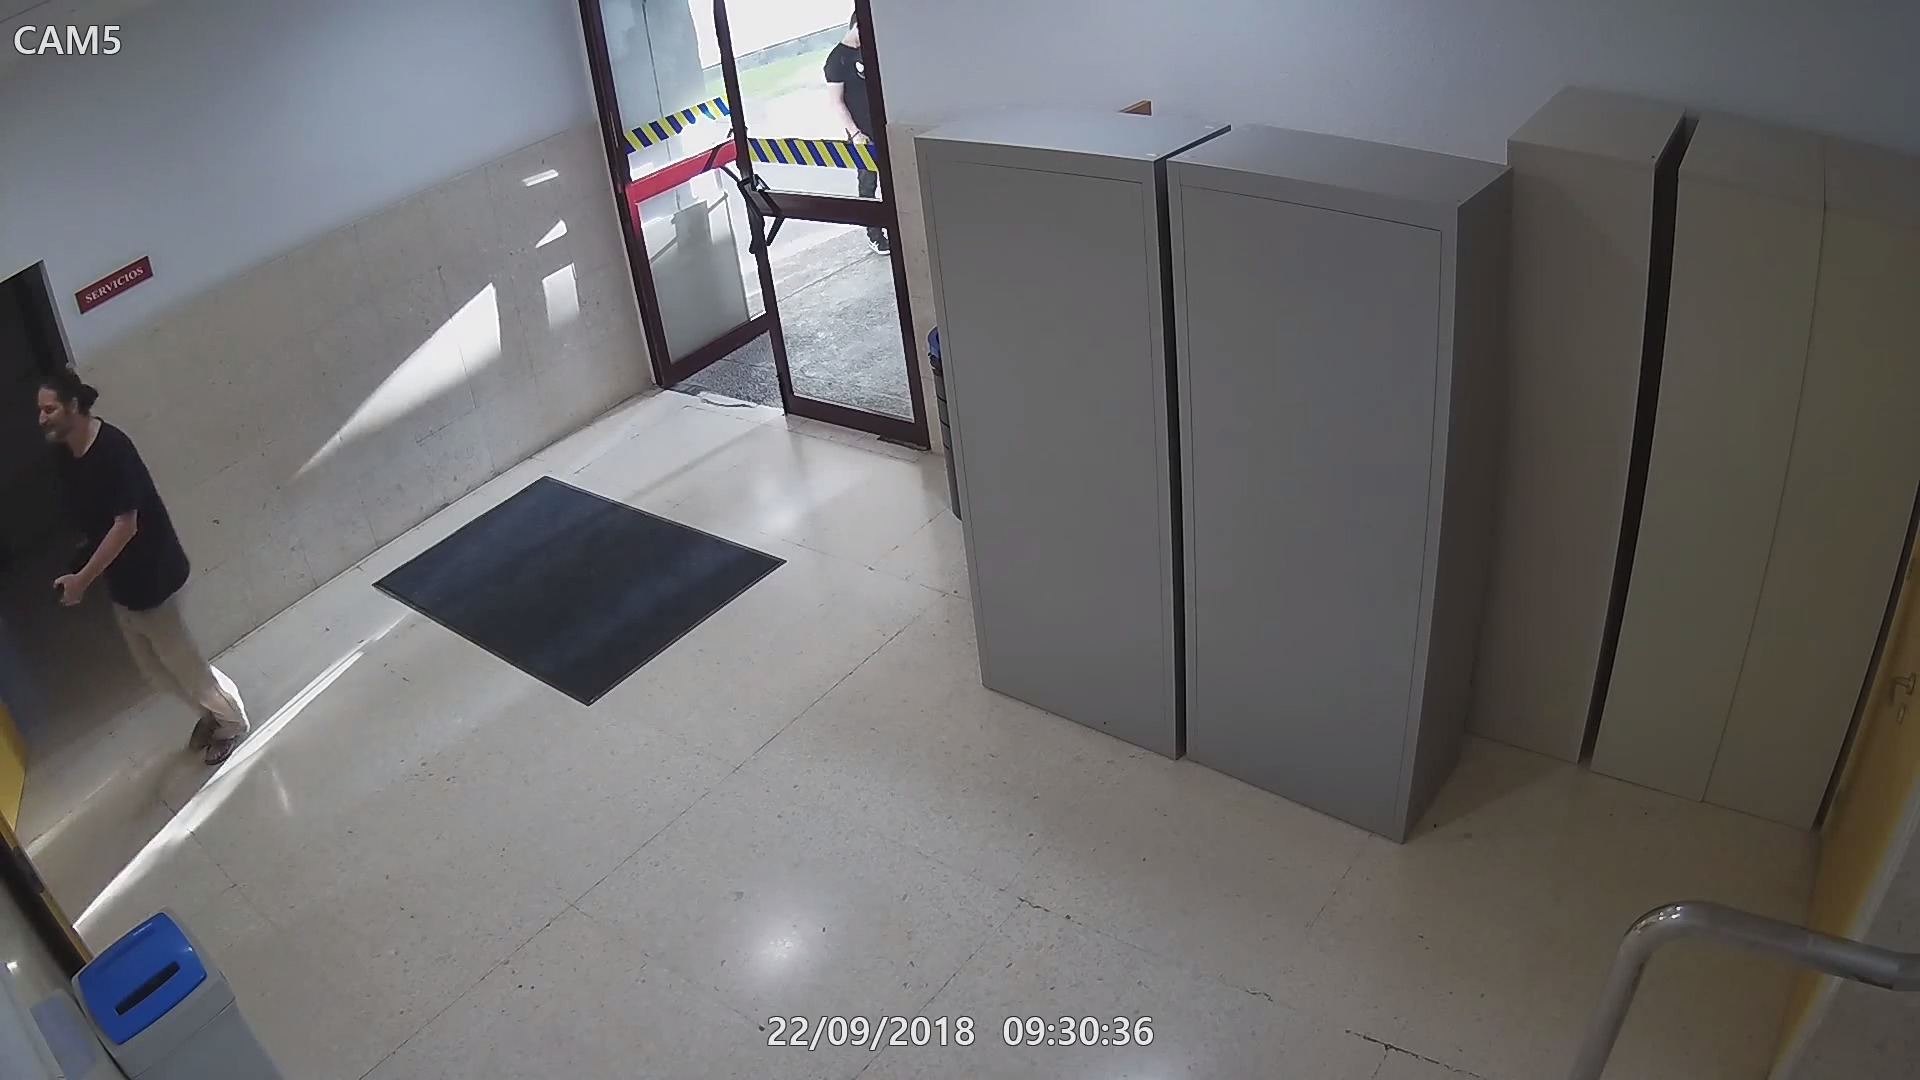Short_rifle: (46, 535, 99, 613)
